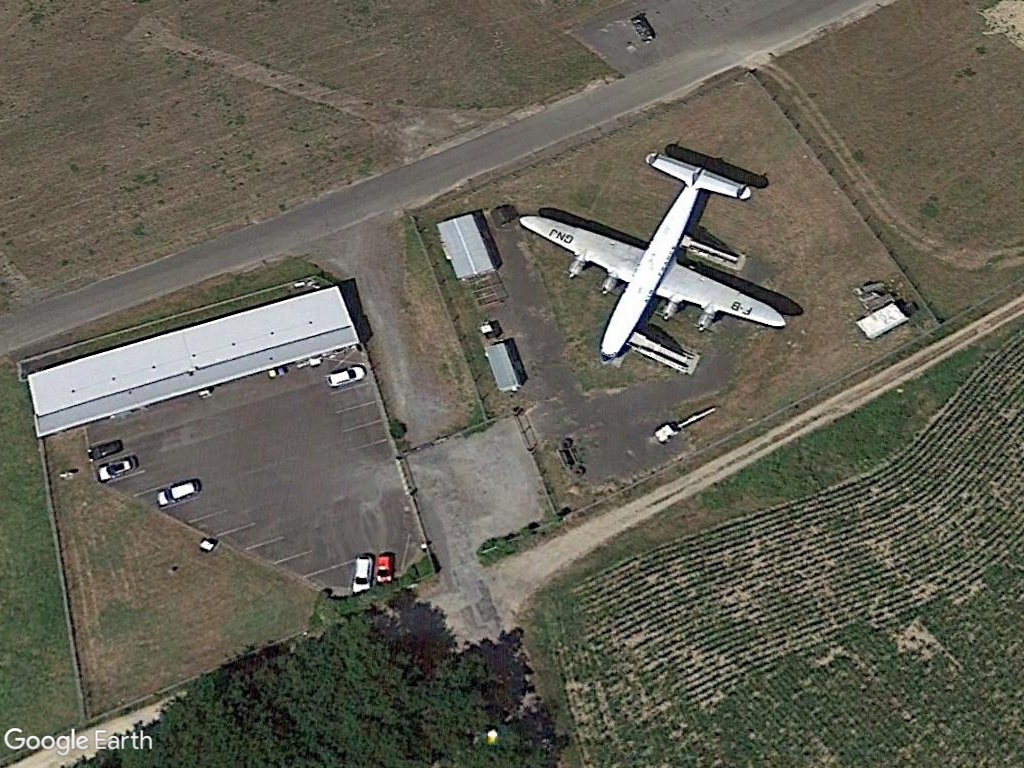propeller: (509, 135, 797, 369)
van: (151, 475, 199, 510), (323, 357, 365, 392), (349, 549, 377, 599)
